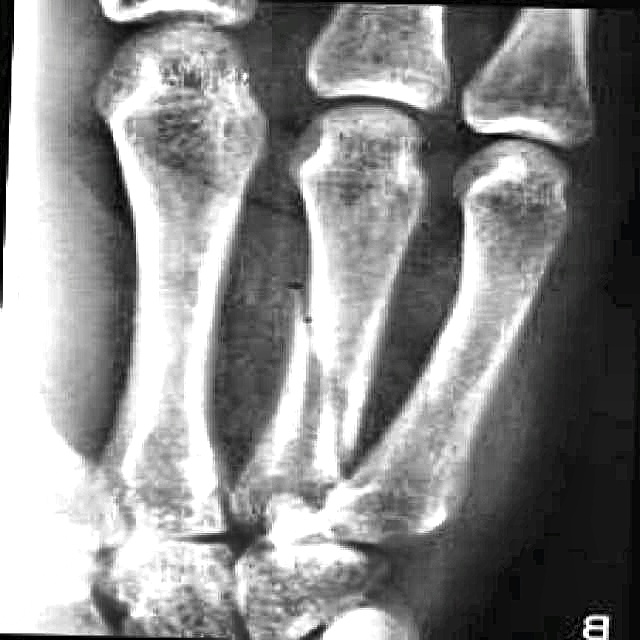Oblique Displaced: (267, 258, 397, 486)
